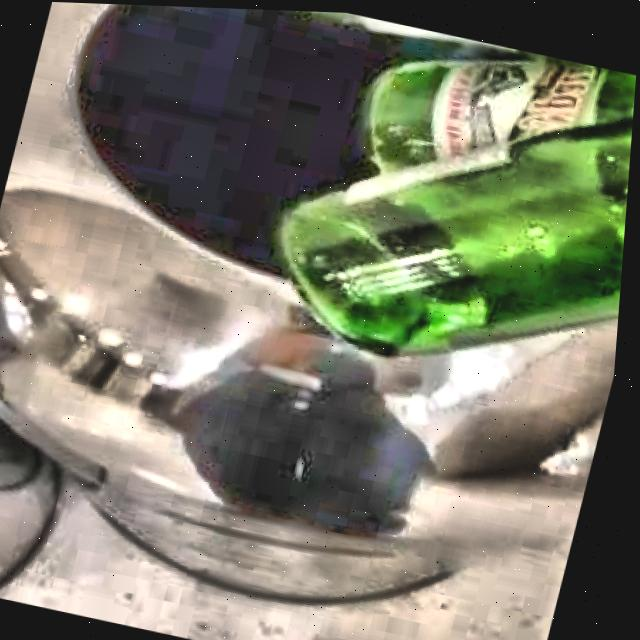glass: (280, 9, 637, 351)
